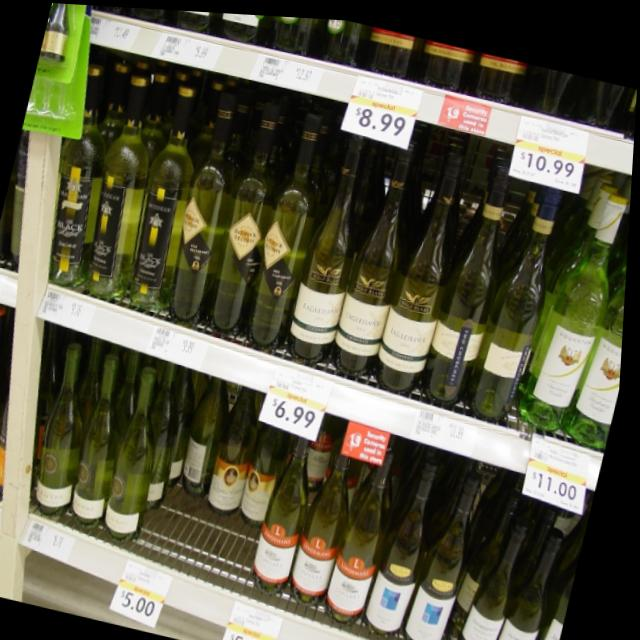q175: (248, 426, 329, 602), (296, 440, 366, 605), (332, 454, 402, 614)
